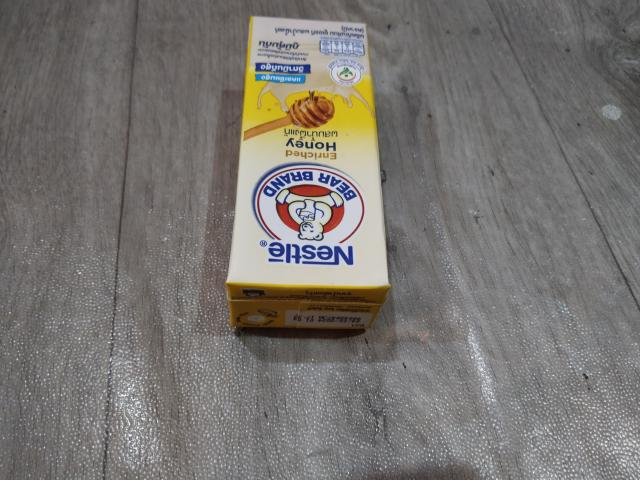drink_box: (232, 12, 384, 336)
